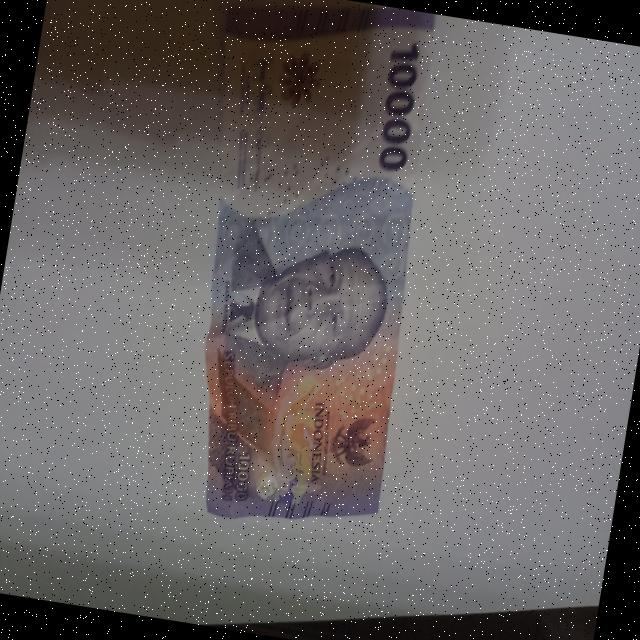10K: (139, 0, 463, 531)
